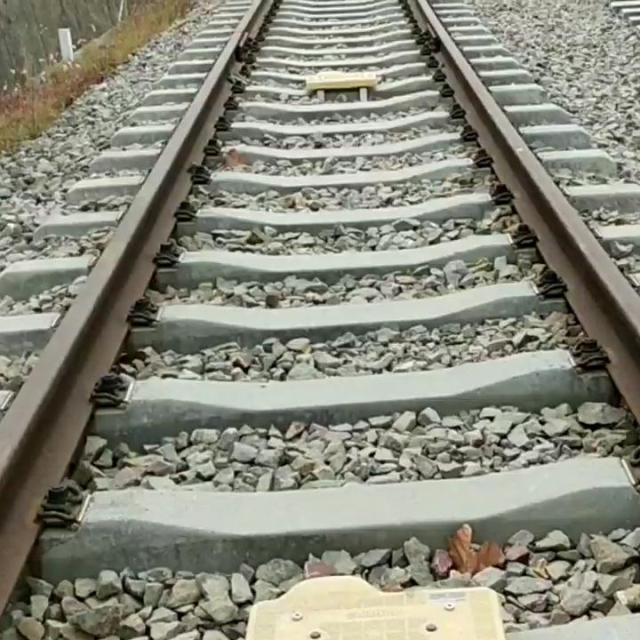rail: (0, 0, 272, 613)
